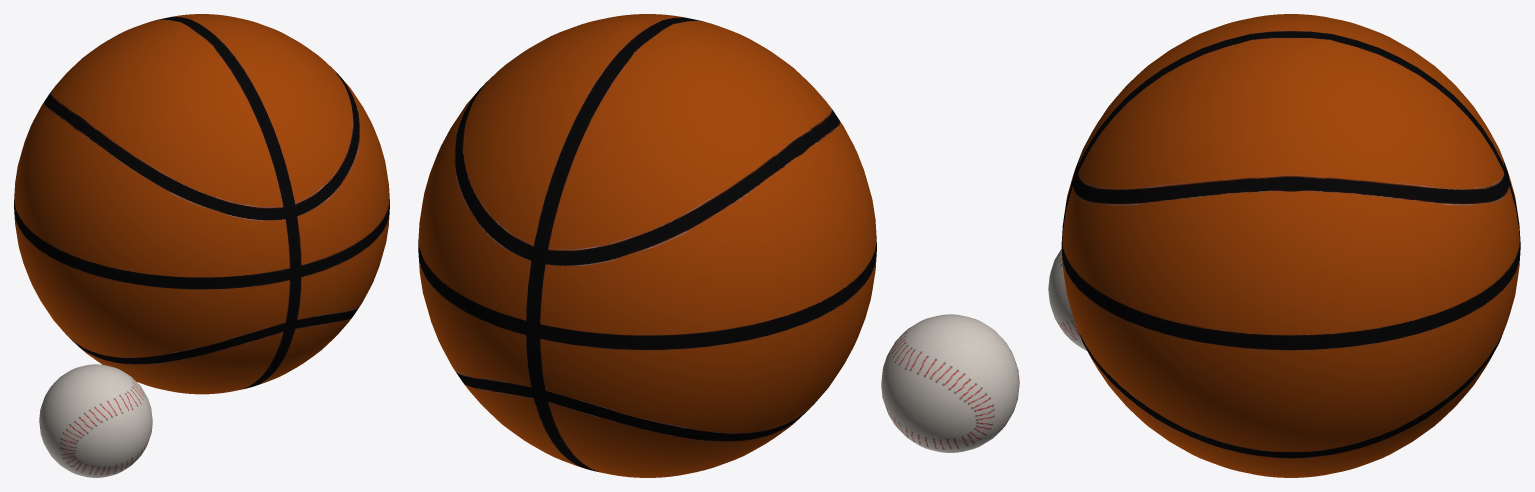
The model's file is balls.glb.
3 renders of one model, left to right at view 1: azimuth 30°, elevation 25°; view 2: azimuth 150°, elevation 25°; view 3: azimuth 270°, elevation 25°, orthographic. The views are drawn at different scales.
Visible parts, largest first — view 1: pelota de basket, pelota beisbol; view 2: pelota de basket, pelota beisbol; view 3: pelota de basket, pelota beisbol.
Part boxes in pixels (x1=…): pelota de basket: x1=14, y1=14, x2=389, y2=394; pelota beisbol: x1=39, y1=364, x2=152, y2=477; pelota de basket: x1=418, y1=14, x2=876, y2=477; pelota beisbol: x1=881, y1=314, x2=1019, y2=452; pelota de basket: x1=1061, y1=14, x2=1520, y2=477; pelota beisbol: x1=1048, y1=249, x2=1086, y2=350.
Size of the model in its own units: 0.2846 by 0.2423 by 0.2452.
Materials: 2 (2 with a texture image).
